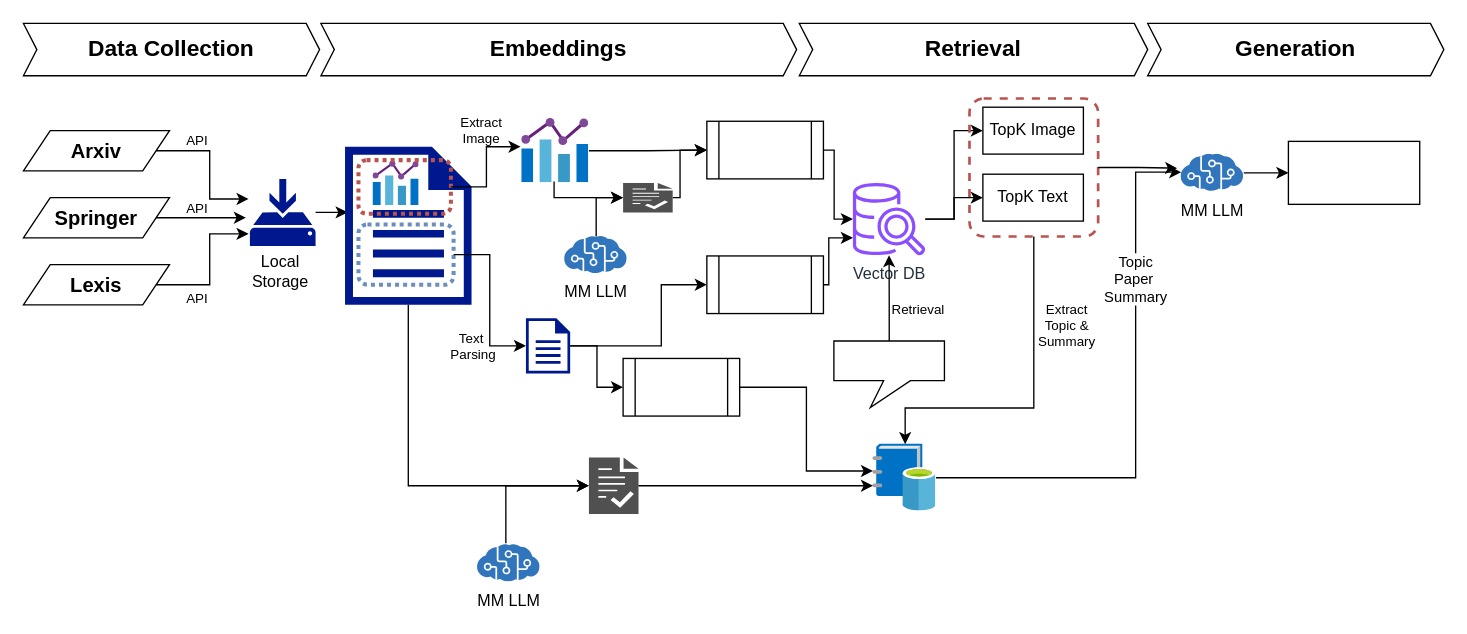
The diagram is 1467 pixels wide and 634 high, and some of its shapes have lost their labels. The shapes that lost their labels are listed below. From the top down, each one's box as (x1, y1, x2, y2) in pixels, then its label:
(706, 120, 823, 179): Image Embedding
(1287, 140, 1420, 204): Response
(622, 182, 672, 212): Image summary
(706, 255, 823, 314): Text Embedding
(622, 357, 740, 416): Topic Modeling
(833, 340, 944, 407): QUERY ??
(588, 457, 638, 513): Article Summary
